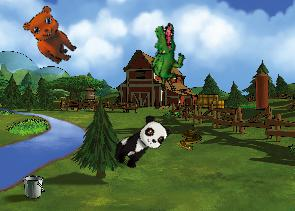bear: (17, 1, 87, 69)
crocodile: (138, 20, 193, 89)
panda: (108, 111, 173, 175)
